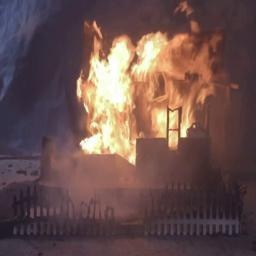fire: (73, 4, 219, 161)
